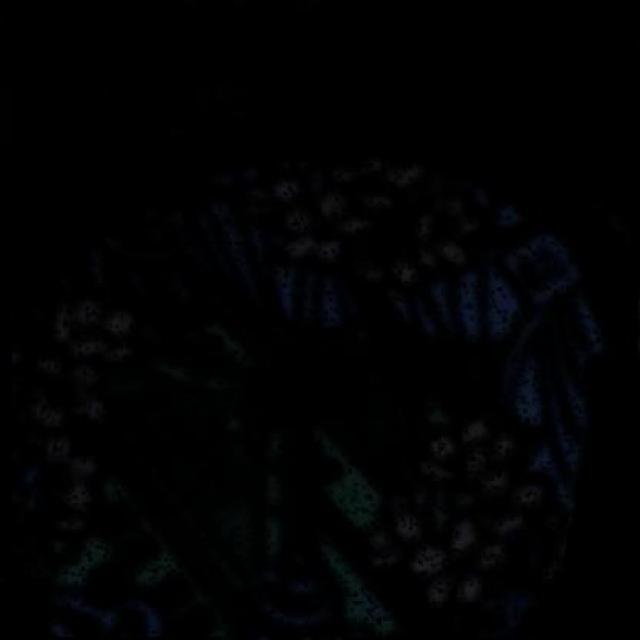Manhole: (13, 8, 640, 637)
